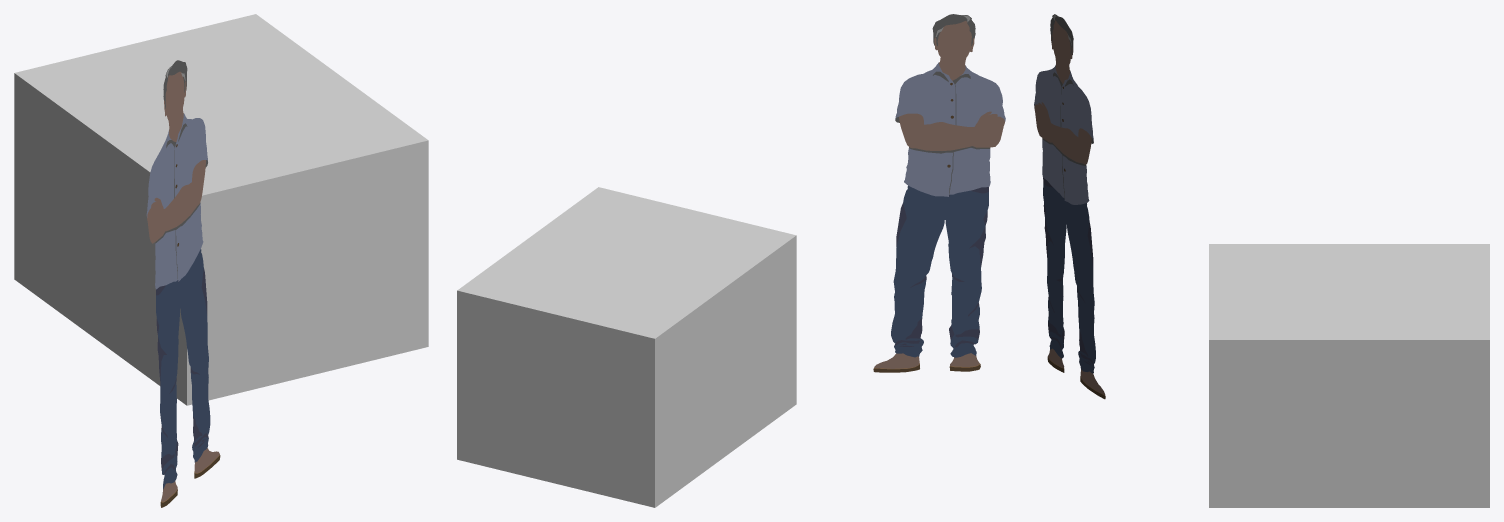
The picture shows the model from 3 angles, left to right: view 1: azimuth 30°, elevation 25°; view 2: azimuth 150°, elevation 25°; view 3: azimuth 270°, elevation 25°; orthographic projection. The views are drawn at different scales.
Visible parts, largest first — view 1: Mesh2 Model, Mesh1 Niraj1 Model; view 2: Mesh2 Model, Mesh1 Niraj1 Model; view 3: Mesh2 Model, Mesh1 Niraj1 Model.
Part boxes in pixels (x1,y1,x2,y2): Mesh2 Model: (14, 14, 428, 405); Mesh1 Niraj1 Model: (146, 60, 220, 507); Mesh2 Model: (457, 187, 796, 507); Mesh1 Niraj1 Model: (873, 14, 1005, 372); Mesh2 Model: (1209, 244, 1489, 507); Mesh1 Niraj1 Model: (1034, 14, 1105, 399).
Bounding box in the file's own units: 65.79 × 70.5 × 81.97.
